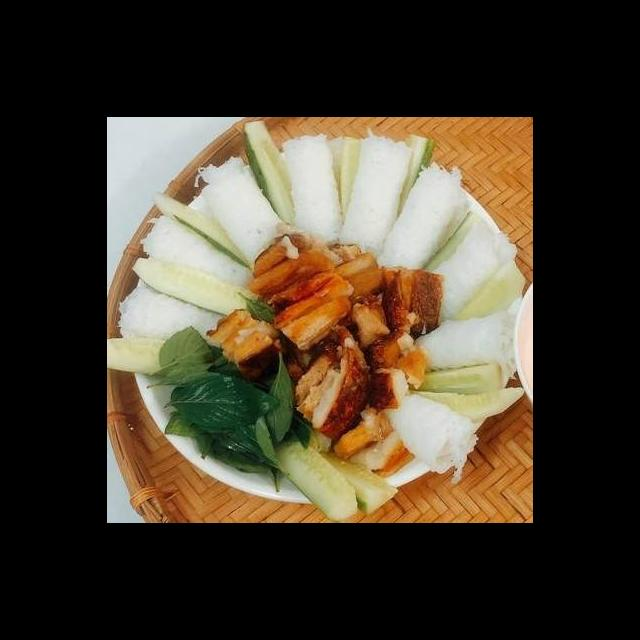banh hoi: (370, 158, 476, 277), (188, 152, 295, 268), (336, 124, 418, 259), (404, 294, 525, 384), (425, 214, 522, 325), (376, 389, 482, 489), (135, 209, 255, 289), (279, 129, 347, 252), (113, 282, 230, 346)
banh hoi heo quay: (123, 143, 519, 523)
thit heo quay: (241, 219, 358, 356), (278, 316, 380, 444), (325, 403, 419, 483), (353, 323, 433, 416), (324, 247, 396, 347), (202, 304, 291, 382), (366, 262, 450, 343)
